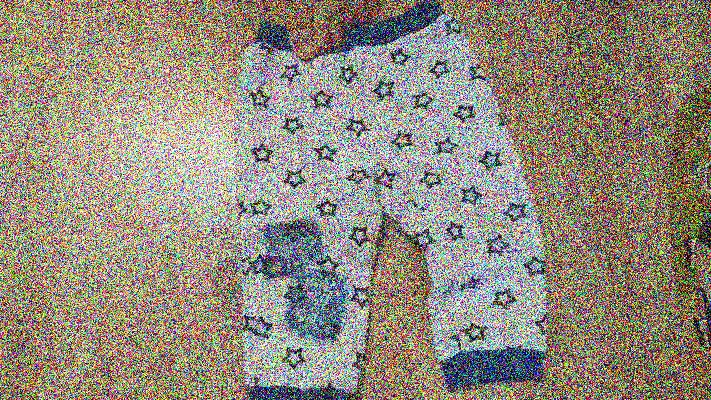Pants: (196, 18, 552, 390)
